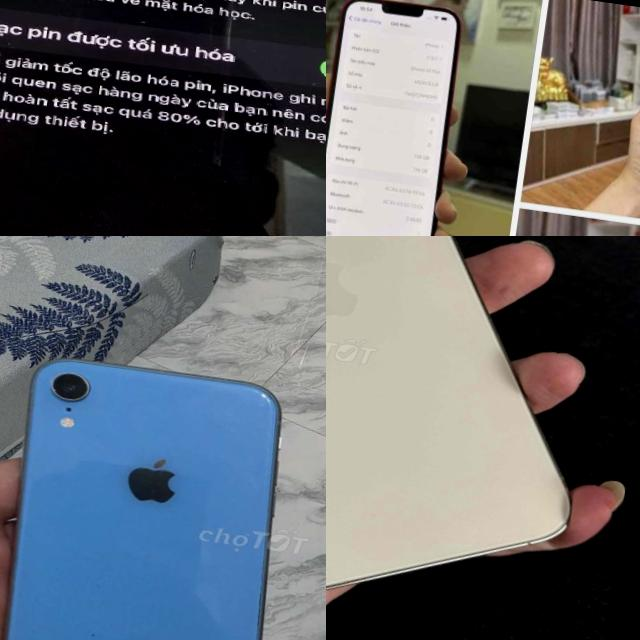gen_14: (326, 236, 640, 628), (0, 0, 326, 236)
gen_x_xs: (0, 341, 316, 640)
